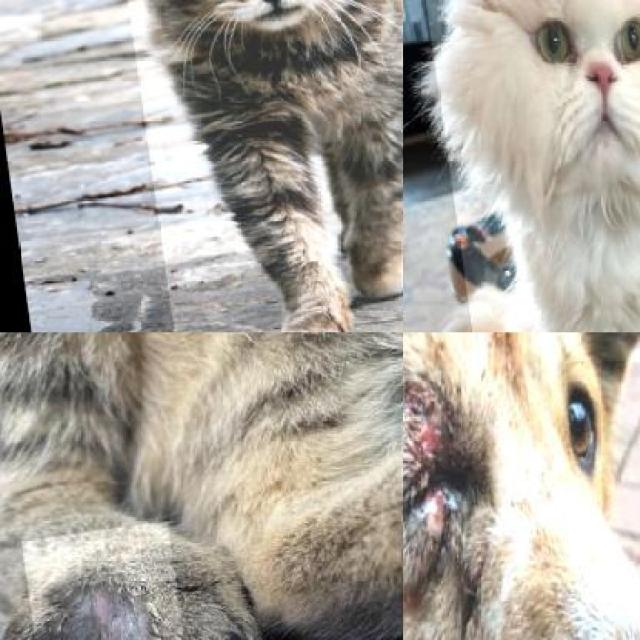cat: (100, 0, 403, 332), (411, 0, 640, 332)
dog: (403, 332, 640, 640)
injured: (403, 332, 528, 640), (20, 520, 198, 640)
